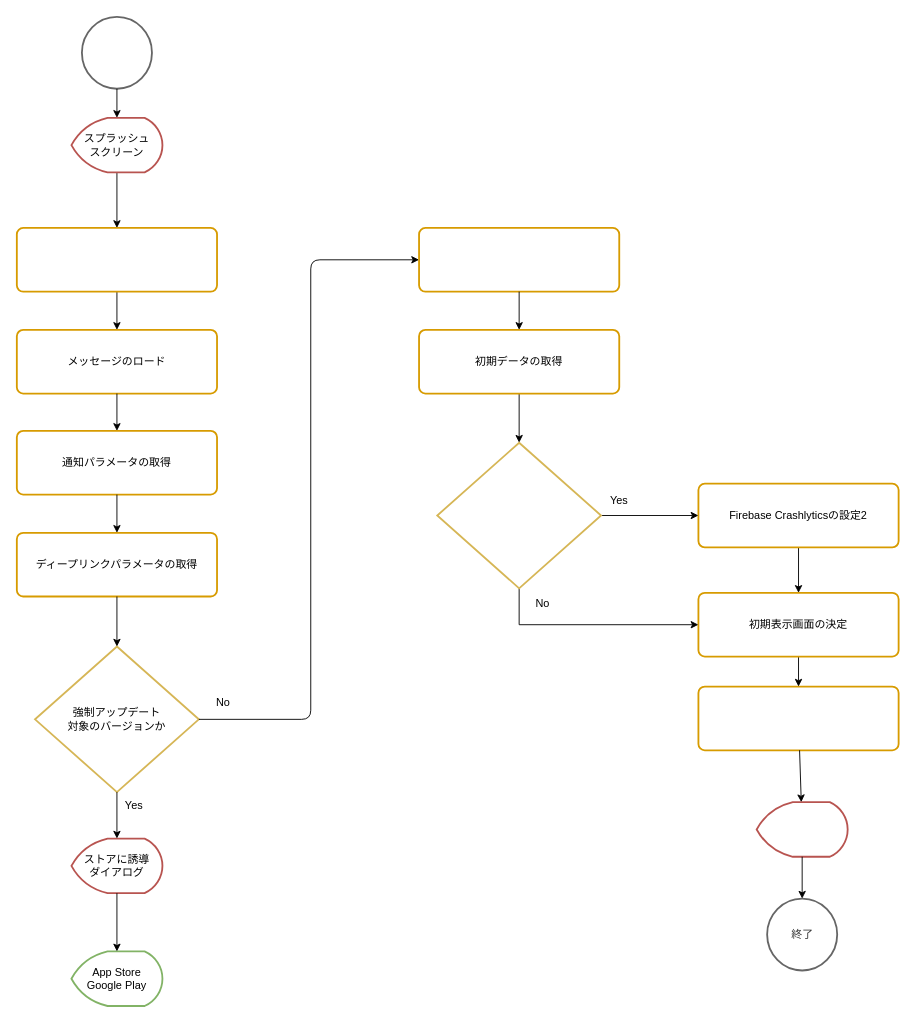
Some shapes in this 915 by 1022 pixel diagram are drawn without their labels. The box of each missing label's shape, as (x1, y1, x2, y2) in pixels:
Firebase Crashlyticsの設定1: (15, 227, 217, 292)
アプリ起動: (81, 15, 152, 89)
キャッシュの削除: (418, 227, 620, 292)
スプラッシュスクリーンを閉じる: (697, 685, 899, 751)
初期表示画面: (755, 801, 848, 857)
認証のステータスが 認証済みか: (436, 441, 602, 589)
